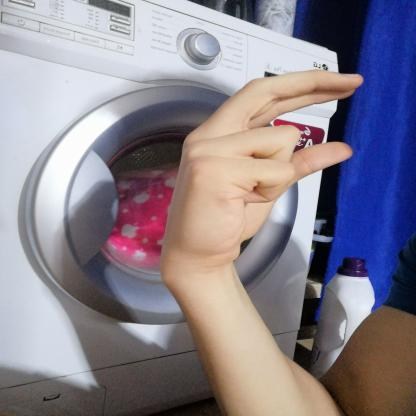DHELL: (154, 58, 382, 268)
